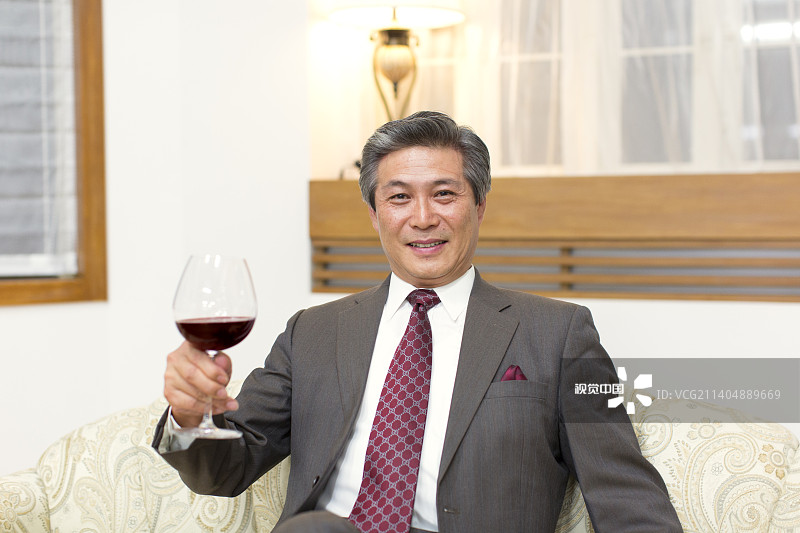no-phone: (144, 250, 267, 441)
